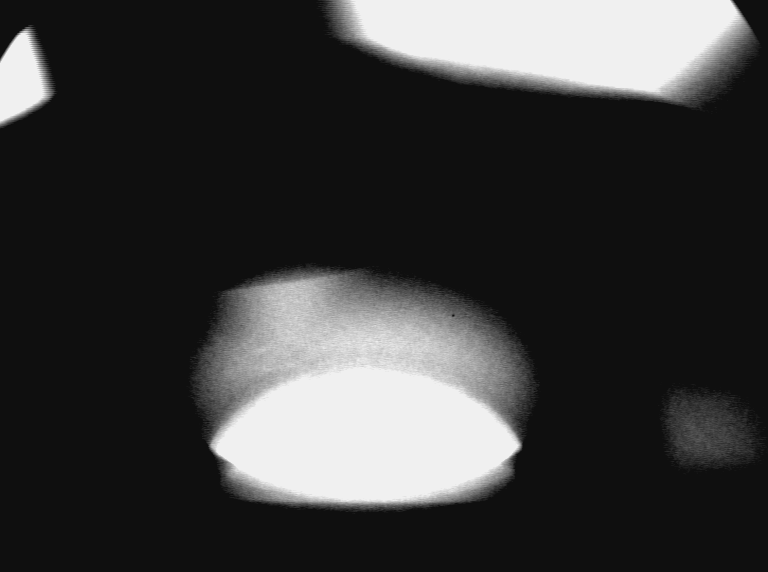defect: (173, 320, 295, 427)
